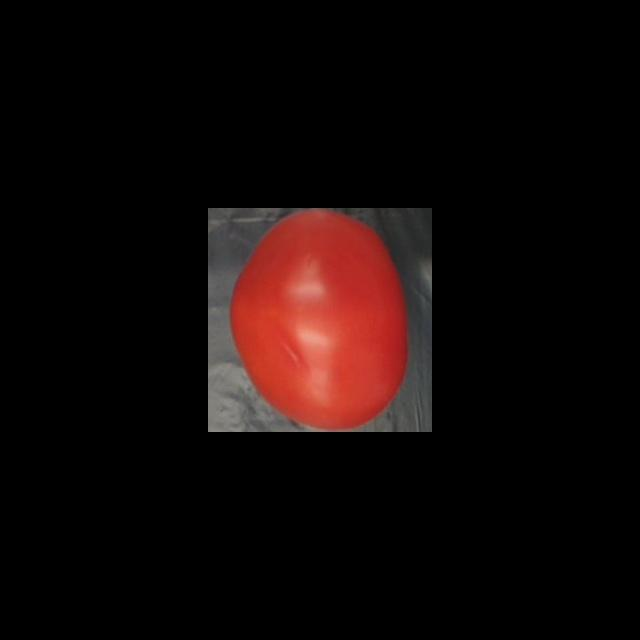tomato: (224, 209, 411, 432)
